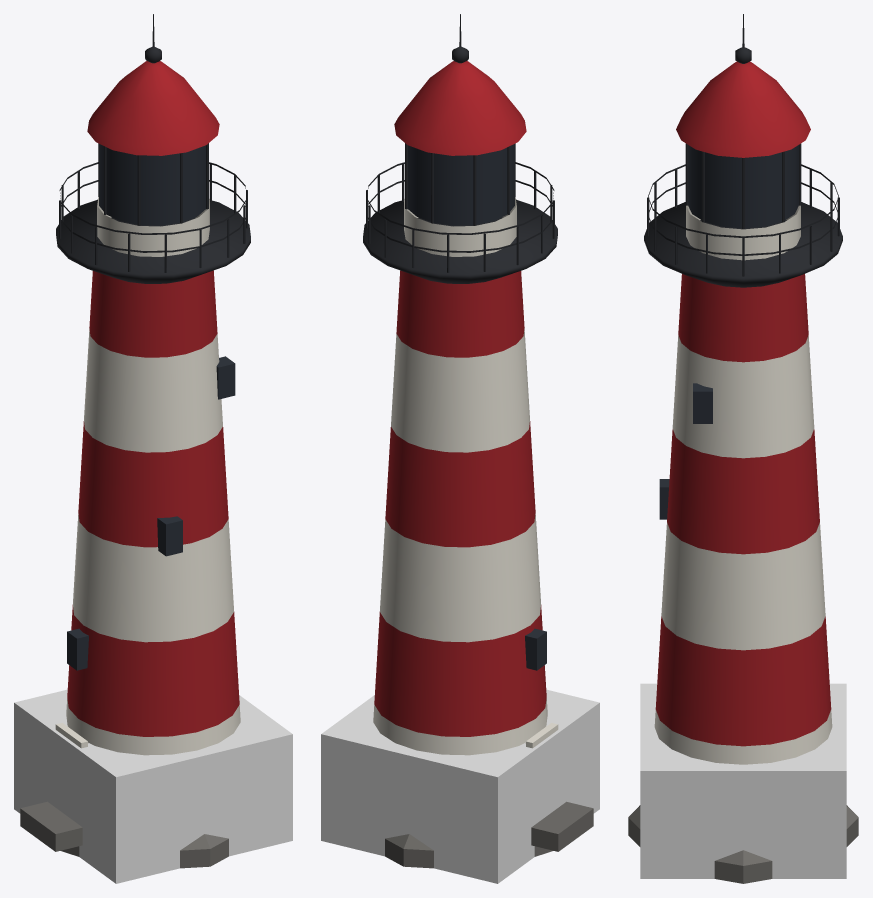
Rendered from booth-lighthouse.glb.
3 renders of one model, left to right at view 1: azimuth 30°, elevation 25°; view 2: azimuth 150°, elevation 25°; view 3: azimuth 270°, elevation 25°, orthographic.
Parts seen in each view (by area): view 1: 02_#a3262c, 01_#e8e4d8, solid, 05_#2a2c30, 04_#2e333b, 00_#6e6c68; view 2: 02_#a3262c, 01_#e8e4d8, solid, 05_#2a2c30, 04_#2e333b, 00_#6e6c68; view 3: 02_#a3262c, 01_#e8e4d8, solid, 05_#2a2c30, 04_#2e333b, 00_#6e6c68.
Part boxes in pixels (x1,y1,x2,y2): 02_#a3262c: [67, 61, 239, 736]; 01_#e8e4d8: [55, 197, 240, 755]; solid: [14, 689, 292, 883]; 05_#2a2c30: [56, 14, 250, 283]; 04_#2e333b: [67, 144, 235, 670]; 00_#6e6c68: [20, 801, 228, 868]; 02_#a3262c: [374, 61, 546, 736]; 01_#e8e4d8: [373, 197, 558, 755]; solid: [321, 689, 599, 883]; 05_#2a2c30: [363, 14, 557, 283]; 04_#2e333b: [408, 144, 546, 670]; 00_#6e6c68: [385, 801, 593, 868]; 02_#a3262c: [655, 61, 831, 746]; 01_#e8e4d8: [654, 205, 832, 764]; solid: [640, 683, 846, 878]; 05_#2a2c30: [644, 14, 842, 287]; 04_#2e333b: [659, 145, 798, 519]; 00_#6e6c68: [628, 805, 858, 883].
Size of the model in its own units: 6.3 by 22.8 by 5.8.
